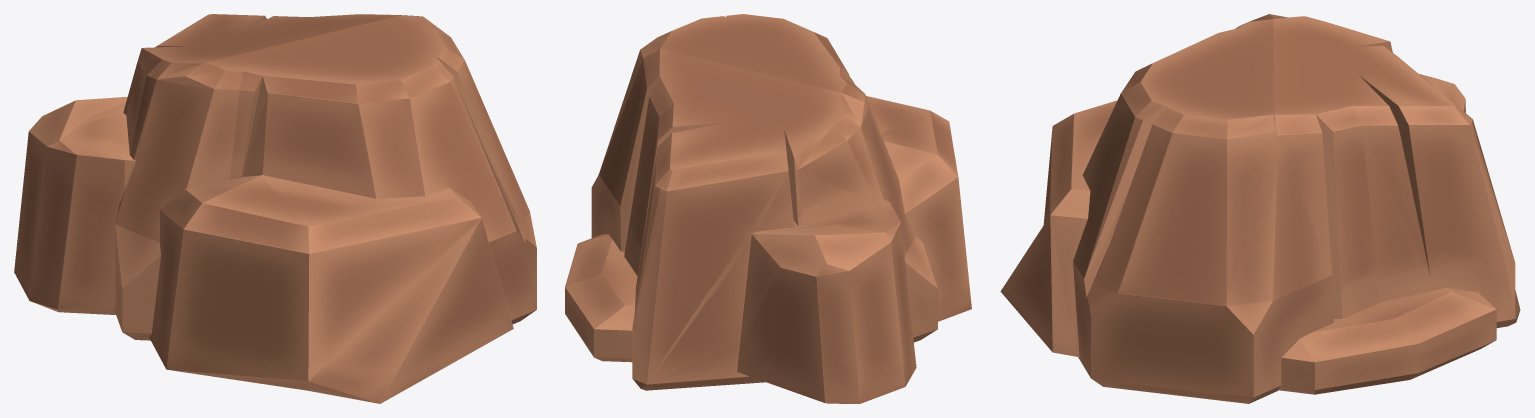
The model's file is small_rock_05.glb.
The picture shows the model from 3 angles, left to right: view 1: azimuth 30°, elevation 25°; view 2: azimuth 150°, elevation 25°; view 3: azimuth 270°, elevation 25°; orthographic projection. The views are drawn at different scales.
Visible parts, largest first — view 1: Cube.007_small_rock_0; view 2: Cube.007_small_rock_0; view 3: Cube.007_small_rock_0.
Boxes of the visible parts, <box> form: Cube.007_small_rock_0: <box>14,14,536,403</box>; Cube.007_small_rock_0: <box>565,14,971,403</box>; Cube.007_small_rock_0: <box>1000,14,1520,403</box>.
Bounding box in the file's own units: 2.88 × 1.77 × 3.2.
1 material, 1 textured.
